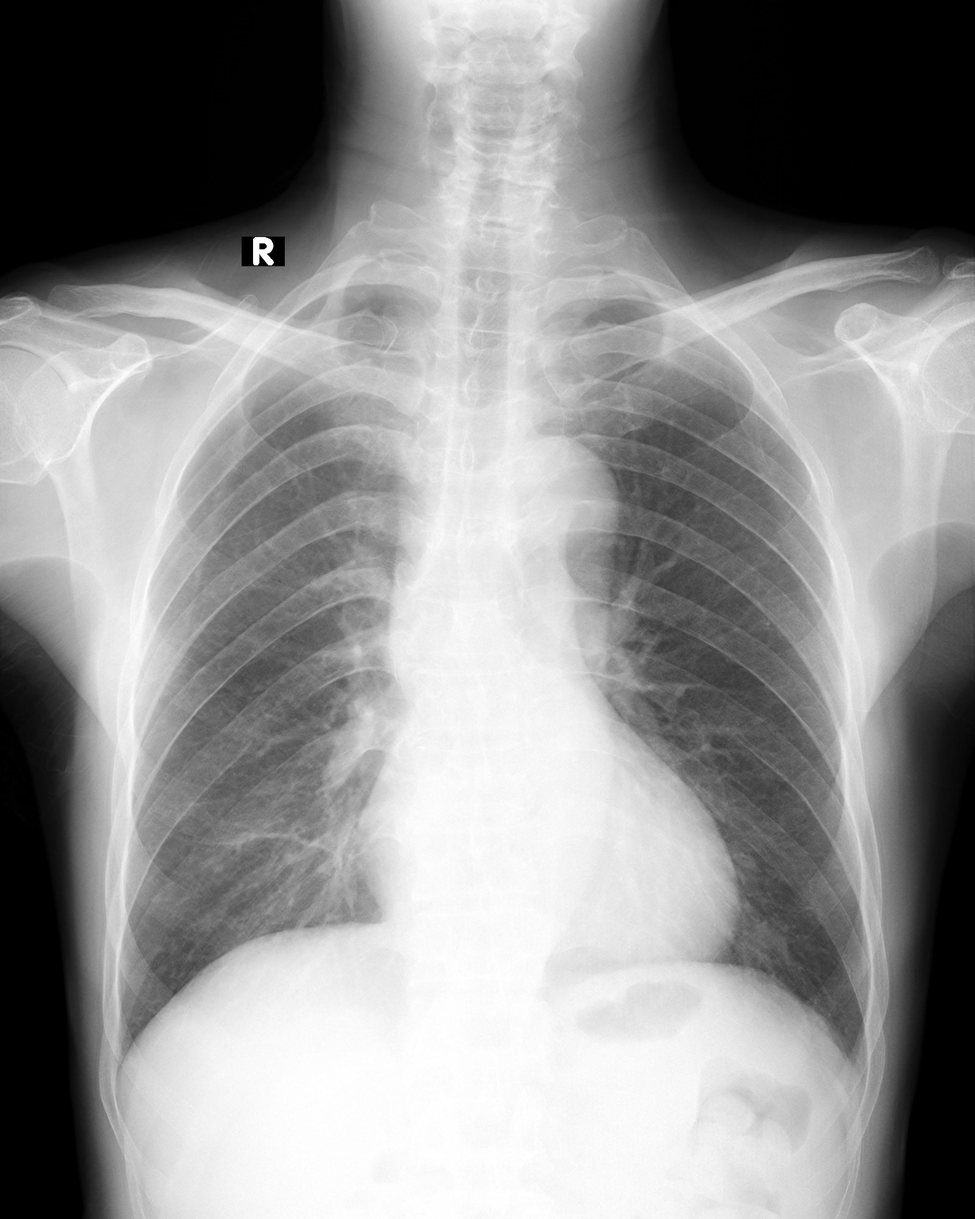Aortic enlargement: (502, 434, 619, 590)
Pulmonary fibrosis: (198, 826, 342, 862)
